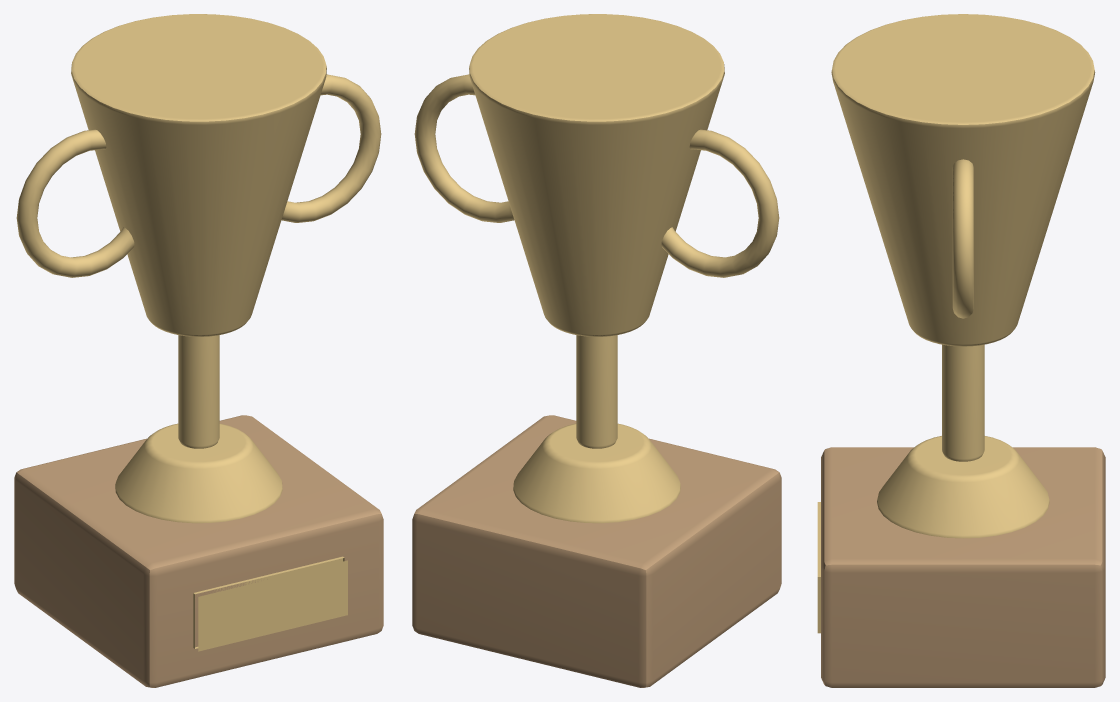
Rendered from industrial.workshop.trinket_trophy.glb.
3 renders of one model, left to right at view 1: azimuth 30°, elevation 25°; view 2: azimuth 150°, elevation 25°; view 3: azimuth 270°, elevation 25°, orthographic. The views are drawn at different scales.
Parts seen in each view (by area): view 1: main__galv_dc8, main__timber_ca7; view 2: main__galv_dc8, main__timber_ca7; view 3: main__galv_dc8, main__timber_ca7.
Boxes of the visible parts, bbox=[...] form: main__galv_dc8: bbox=[16, 14, 381, 651]; main__timber_ca7: bbox=[14, 415, 383, 687]; main__galv_dc8: bbox=[414, 14, 779, 523]; main__timber_ca7: bbox=[412, 415, 781, 687]; main__galv_dc8: bbox=[817, 14, 1095, 633]; main__timber_ca7: bbox=[821, 447, 1105, 687].
Size of the model in its own units: 0.242 by 0.35 by 0.166.
